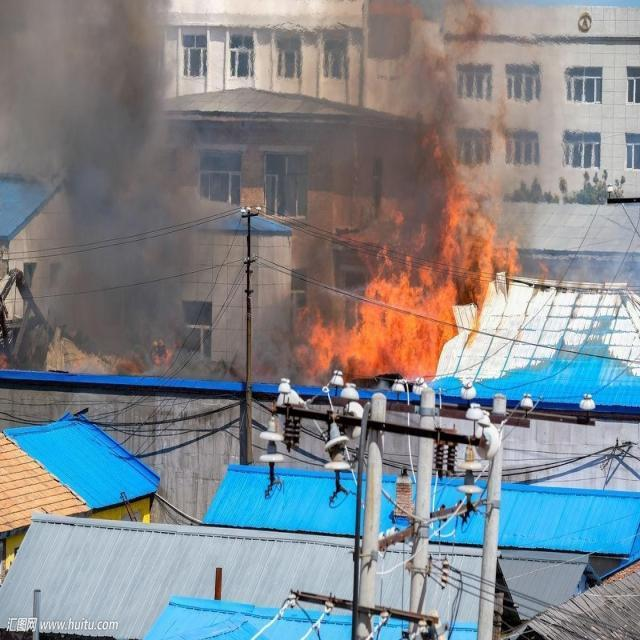Fire: (292, 127, 522, 381)
Smoke: (0, 1, 485, 385)
